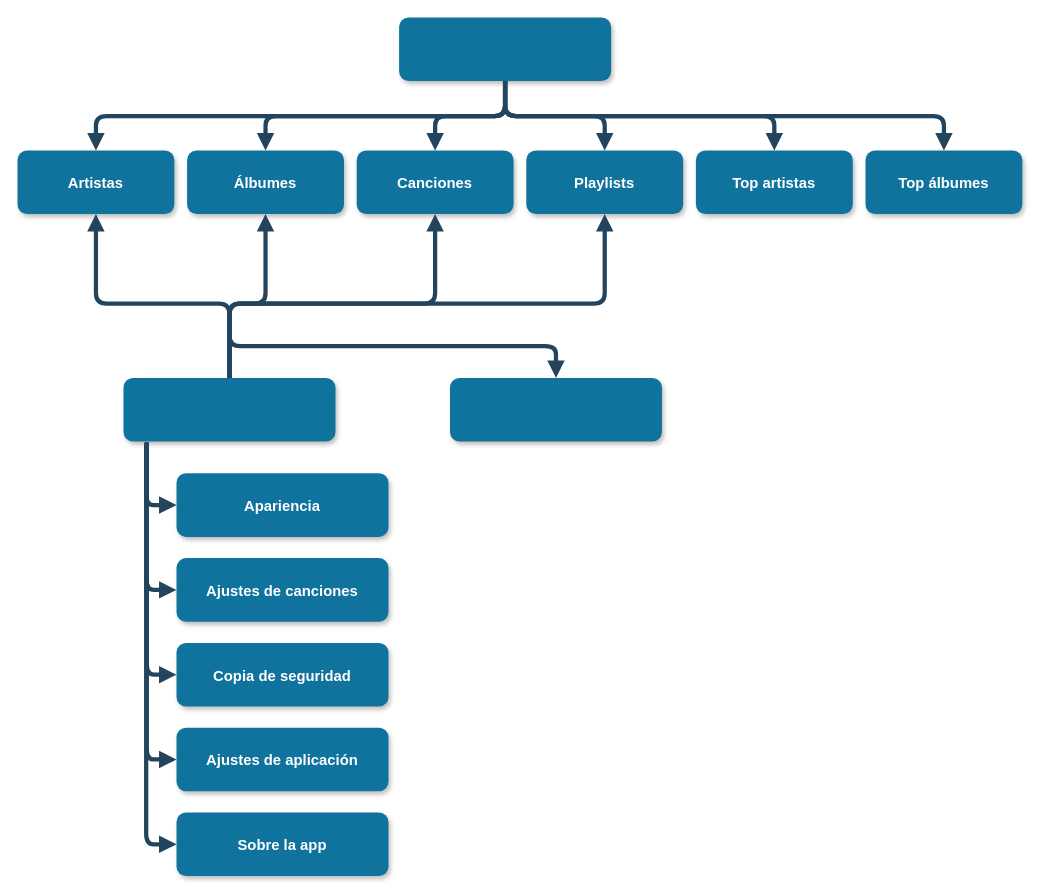
This 1040x894 diagram has some shape labels left out. Each missing label, with the centre of its shape:
Ajustes: (x=230, y=410)
Búsqueda: (x=556, y=410)
Menú de inicio: (x=505, y=50)
